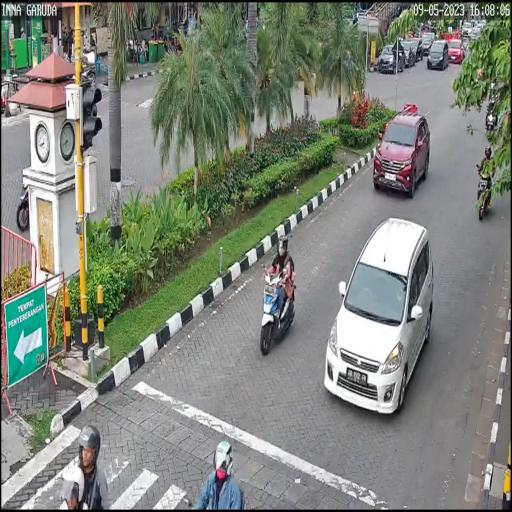mobil: (320, 212, 437, 427), (372, 98, 430, 201)
motor: (256, 262, 303, 368)
